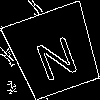N: (29, 26, 82, 82)
